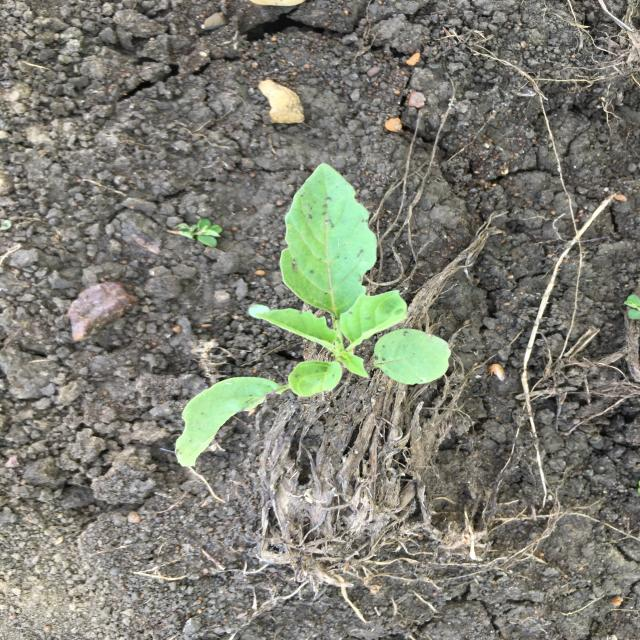CutleafGroundcherry: (173, 161, 453, 468)
